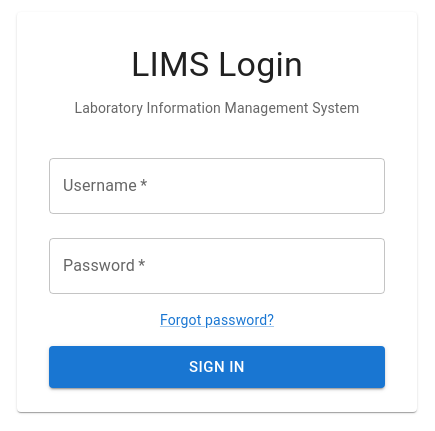
it: Login › disables submit button while loading
Type "testuser" into the field labelled "Username *" at (217, 186), box [49,158,385,214]
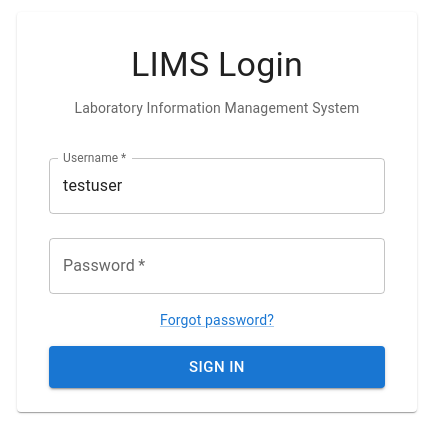
Type "password" into the password field labelled "Password *" at (217, 266), box [49,238,385,294]
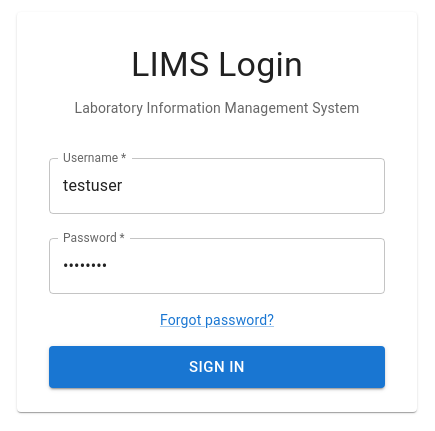
Click the button "Sign In" at (217, 367), box [49,346,385,388]
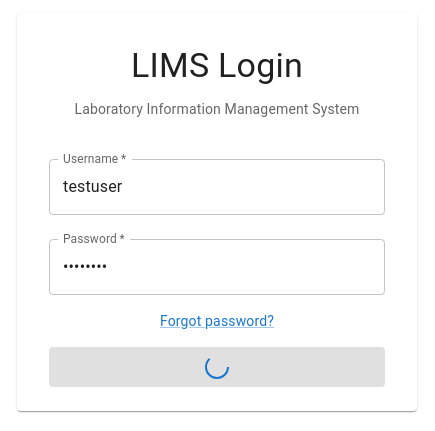
Result: the button "Sign In" is disabled at [49,347,385,387]
